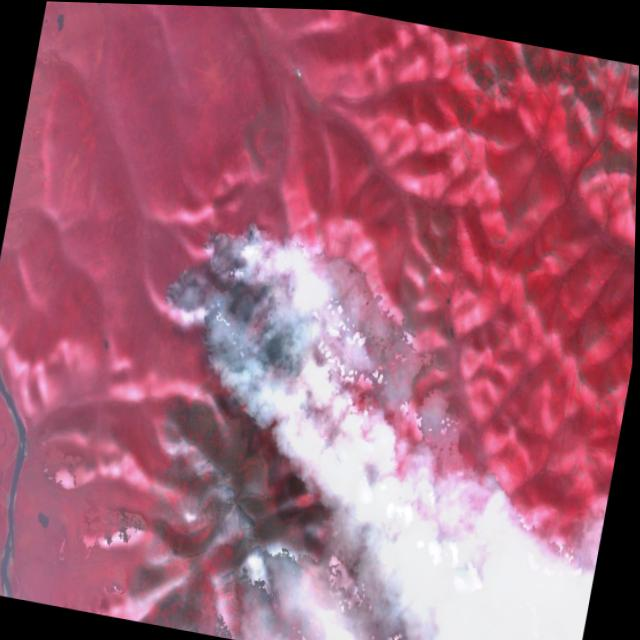fire: (139, 197, 339, 441)
